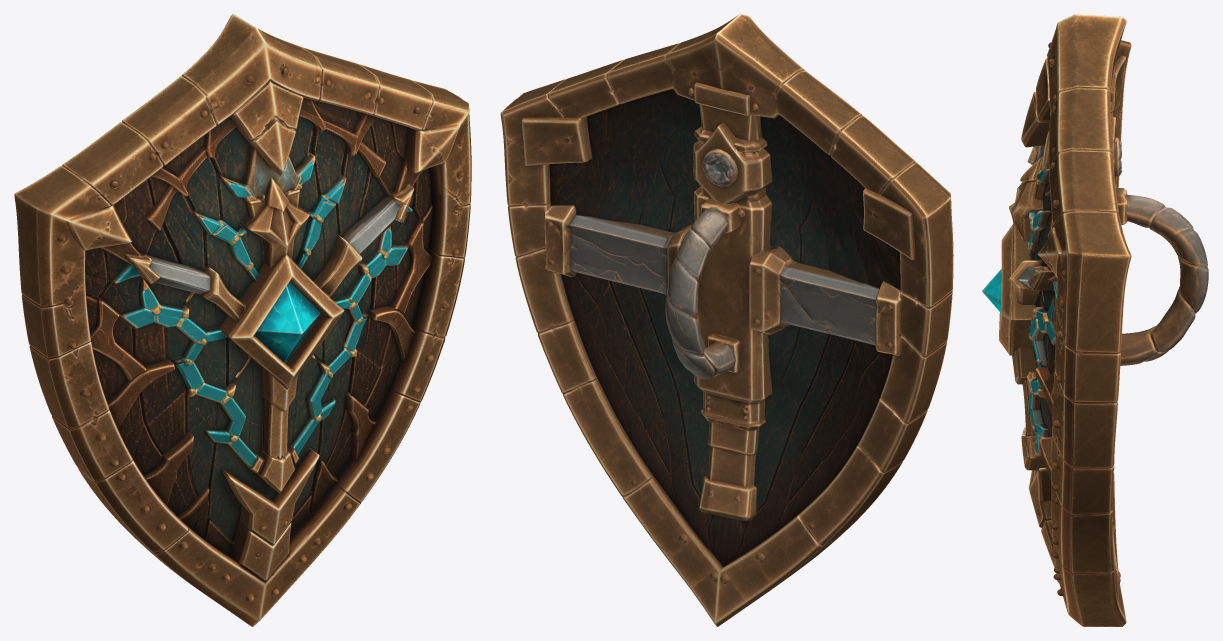
File: Meshy_AI_Aegis_of_the_Azure_St_1022222231_texture.glb
3 views of the same model, side by side, from view 1: azimuth 30°, elevation 25°; view 2: azimuth 150°, elevation 25°; view 3: azimuth 270°, elevation 25° (orthographic). The views are drawn at different scales.
Bounding box in the file's own units: 1.43 × 1.9 × 0.6374.
Materials: 1 (1 with a texture image).
